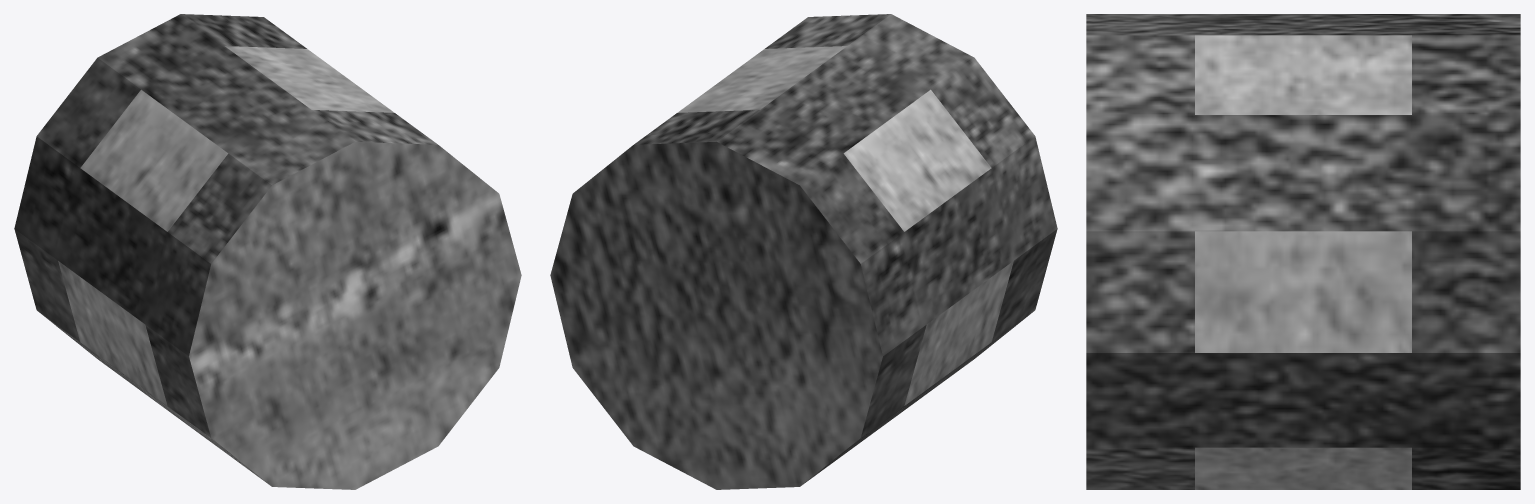
File: GunBarrel.obj
3 renders of one model, left to right at view 1: azimuth 30°, elevation 25°; view 2: azimuth 150°, elevation 25°; view 3: azimuth 270°, elevation 25°, orthographic. The views are drawn at different scales.
Visible parts, largest first — view 1: Cube.003; view 2: Cube.003; view 3: Cube.003.
Part boxes in pixels (x1,y1,x2,y2): Cube.003: (14,14,521,489); Cube.003: (550,14,1057,489); Cube.003: (1086,14,1520,489).
Size of the model in its own units: 2.2 by 2.2 by 2.
2 materials, 2 textured.
